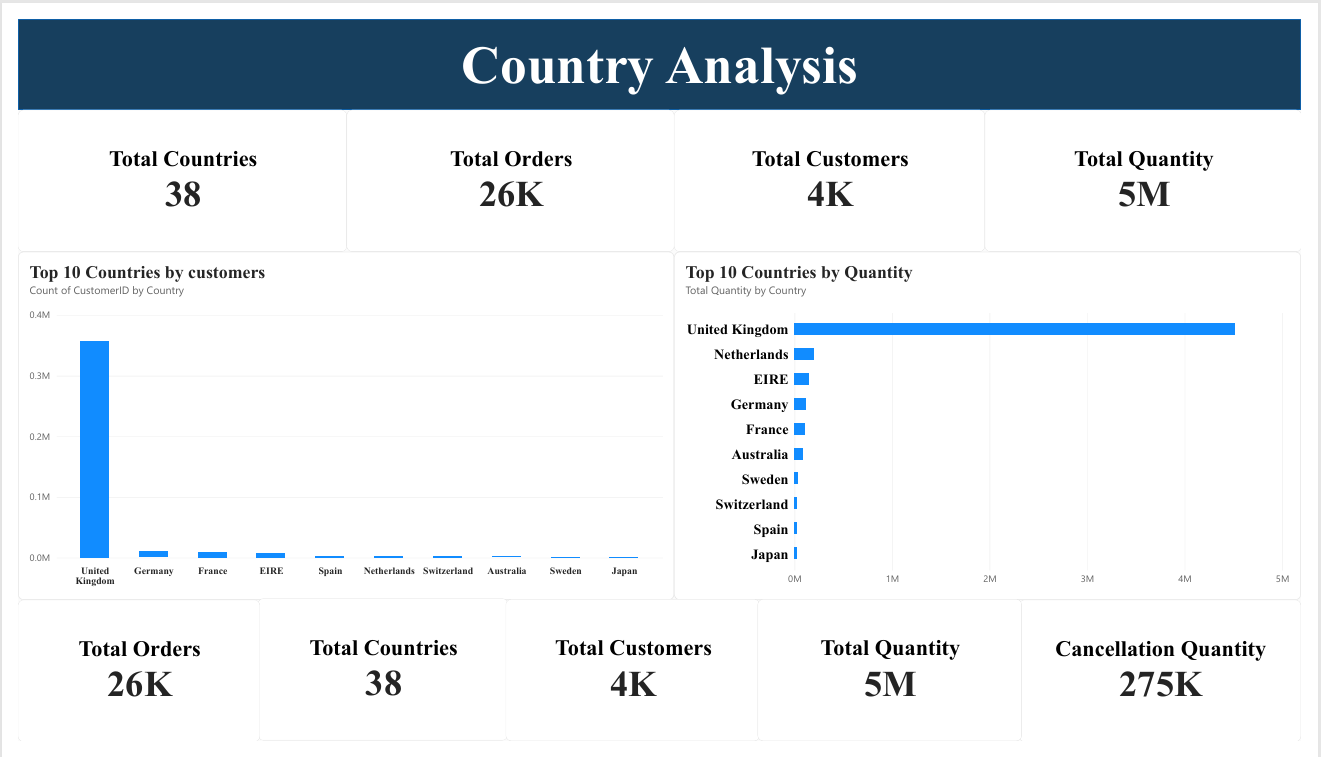

The page's visual inventory and layout, read from the dashboard file:
{"tool":"powerbi","page":{"name":"Country Analysis","canvas":[1920,1080],"ordinal":3},"visuals":[{"type":"shape","box":[0,0,1920.4,135.8],"z":0},{"type":"cardVisual","fields":{"Data":["DateTable.Total Countries"]},"box":[0,135.8,492,212],"z":0,"group":"g1"},{"type":"cardVisual","fields":{"Data":["DateTable.Total Quantity"]},"box":[1446.6,135.8,473.5,212],"z":0,"group":"g5"},{"type":"cardVisual","fields":{"Data":["DateTable.Total Orders"]},"box":[491.9,136.1,489.9,212],"z":0,"group":"g2"},{"type":"cardVisual","fields":{"Data":["DateTable.Total Customers"]},"box":[981.8,136.1,465.2,212],"z":0,"group":"g3"},{"type":"cardVisual","fields":{"Data":["DateTable.Total Quantity"]},"box":[1106.9,867.5,395.2,212],"z":0,"group":"g6"},{"type":"cardVisual","fields":{"Data":["DateTable.Total Orders"]},"box":[0,868.6,362.3,212],"z":1000,"group":"g6"},{"type":"cardVisual","fields":{"Data":["DateTable.Cancellation Quantity"]},"box":[1498,868.6,422,212],"z":1000},{"type":"textbox","box":[0,22.6,1920.4,113.2],"z":2000},{"type":"group","id":"g1","title":"Group 1","box":[0,135.8,491.9,212],"z":2000,"group":"g4"},{"type":"cardVisual","fields":{"Data":["DateTable.Total Customers"]},"box":[729.7,867.5,380.8,212],"z":2000,"group":"g6"},{"type":"group","id":"g2","title":"Group 1","box":[491.9,136.1,489.9,212],"z":3000,"group":"g4"},{"type":"columnChart","title":"Top 10 Countries by customers","fields":{"Category":["EcommerceData.Country"],"Y":["CountNonNull(EcommerceData.CustomerID)"]},"box":[0,347.9,981.8,520.8],"z":3000},{"type":"cardVisual","fields":{"Data":["DateTable.Total Countries"]},"box":[358.7,866.5,374.6,212],"z":3000,"group":"g6"},{"type":"group","id":"g3","title":"Group 1","box":[981.8,136.1,465.2,212],"z":4000,"group":"g4"},{"type":"clusteredBarChart","title":"Top 10 Countries by Quantity     ","fields":{"Category":["EcommerceData.Country"],"Y":["DateTable.Total Quantity"]},"box":[981.8,347.9,938.6,520.8],"z":4000},{"type":"group","id":"g4","title":"Group 2","box":[0,135.8,1920,212.3],"z":5000},{"type":"group","id":"g5","title":"Group 1","box":[1446.6,135.8,473.4,212],"z":5000,"group":"g4"},{"type":"group","id":"g6","title":"Group 2","box":[0,866.5,1502.1,214.1],"z":6000}]}

Visuals, with their boxes in screenshot pixels (x1, y1, x2, y2), scaled from the page's 1920x1080 canvas onto the 1321x757 screenshot:
shape: Rect(0, 0, 1320, 95)
cardVisual - DateTable.Total Countries: Rect(0, 95, 339, 244)
cardVisual - DateTable.Total Quantity: Rect(995, 95, 1320, 244)
cardVisual - DateTable.Total Orders: Rect(338, 95, 675, 244)
cardVisual - DateTable.Total Customers: Rect(675, 95, 996, 244)
cardVisual - DateTable.Total Quantity: Rect(762, 608, 1033, 756)
cardVisual - DateTable.Total Orders: Rect(0, 609, 249, 756)
cardVisual - DateTable.Cancellation Quantity: Rect(1031, 609, 1320, 756)
textbox: Rect(0, 16, 1320, 95)
"Group 1" group: Rect(0, 95, 338, 244)
cardVisual - DateTable.Total Customers: Rect(502, 608, 764, 756)
"Group 1" group: Rect(338, 95, 675, 244)
"Top 10 Countries by customers" columnChart: Rect(0, 244, 675, 609)
cardVisual - DateTable.Total Countries: Rect(247, 607, 505, 756)
"Group 1" group: Rect(675, 95, 996, 244)
"Top 10 Countries by Quantity     " clusteredBarChart: Rect(675, 244, 1320, 609)
"Group 2" group: Rect(0, 95, 1320, 244)
"Group 1" group: Rect(995, 95, 1320, 244)
"Group 2" group: Rect(0, 607, 1033, 756)
